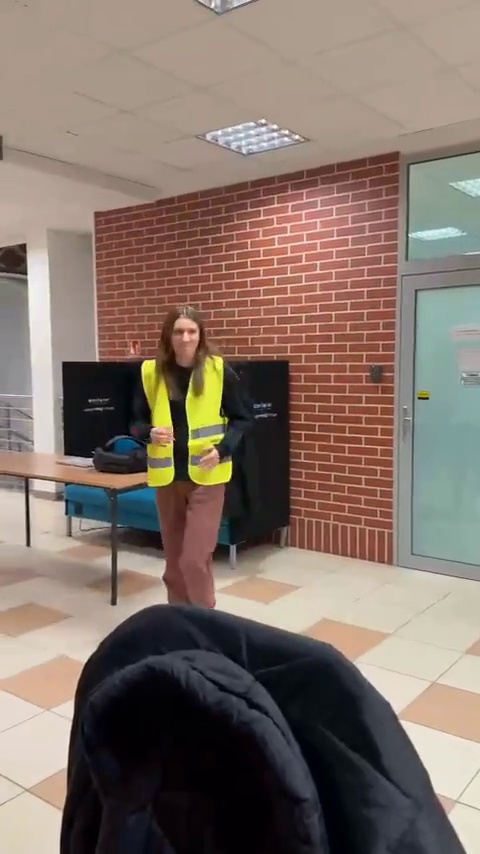vest: (139, 300, 246, 607)
